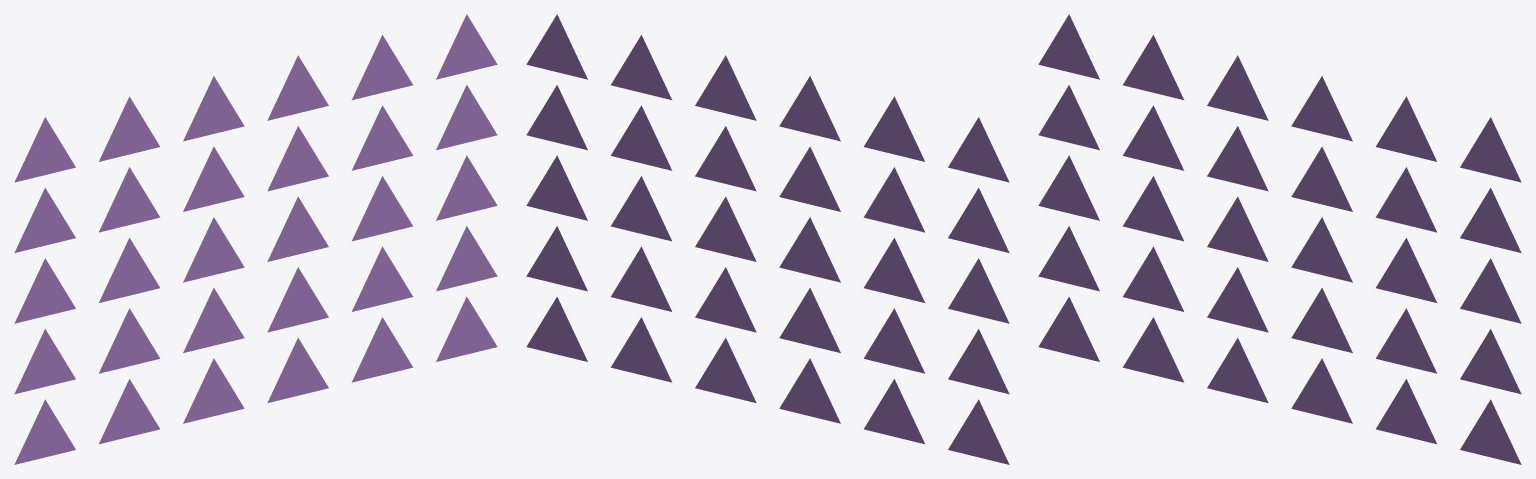
The model's file is chronolith_anchor_lod0.gltf.
3 renders of one model, left to right at view 1: azimuth 30°, elevation 25°; view 2: azimuth 150°, elevation 25°; view 3: azimuth 330°, elevation 25°, orthographic.
Visible parts, largest first — view 1: chronolith_anchor_lod0; view 2: chronolith_anchor_lod0; view 3: chronolith_anchor_lod0.
Part boxes in pixels (left/top/right/bottom): chronolith_anchor_lod0: left=14, top=14, right=497, bottom=464; chronolith_anchor_lod0: left=526, top=14, right=1009, bottom=464; chronolith_anchor_lod0: left=1038, top=14, right=1521, bottom=464.
Size of the model in its own units: 0.86 by 0.579 by 0.
